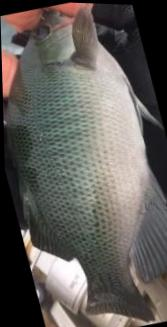fish: (6, 6, 167, 321)
